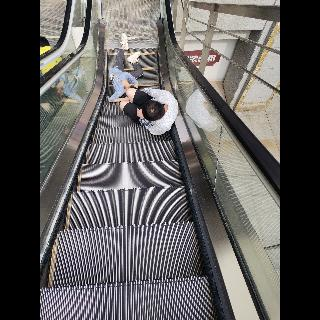anomaly: (116, 87, 184, 137), (104, 31, 150, 104)
